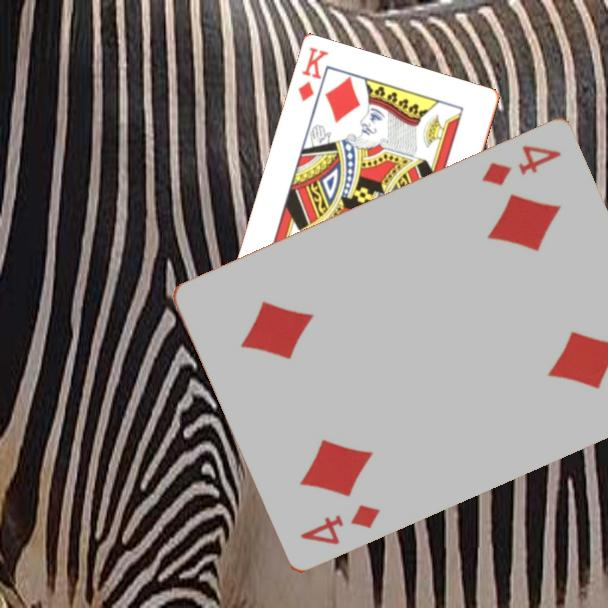d04: (296, 501, 383, 549), (478, 142, 564, 189)
d13: (295, 44, 331, 105)
